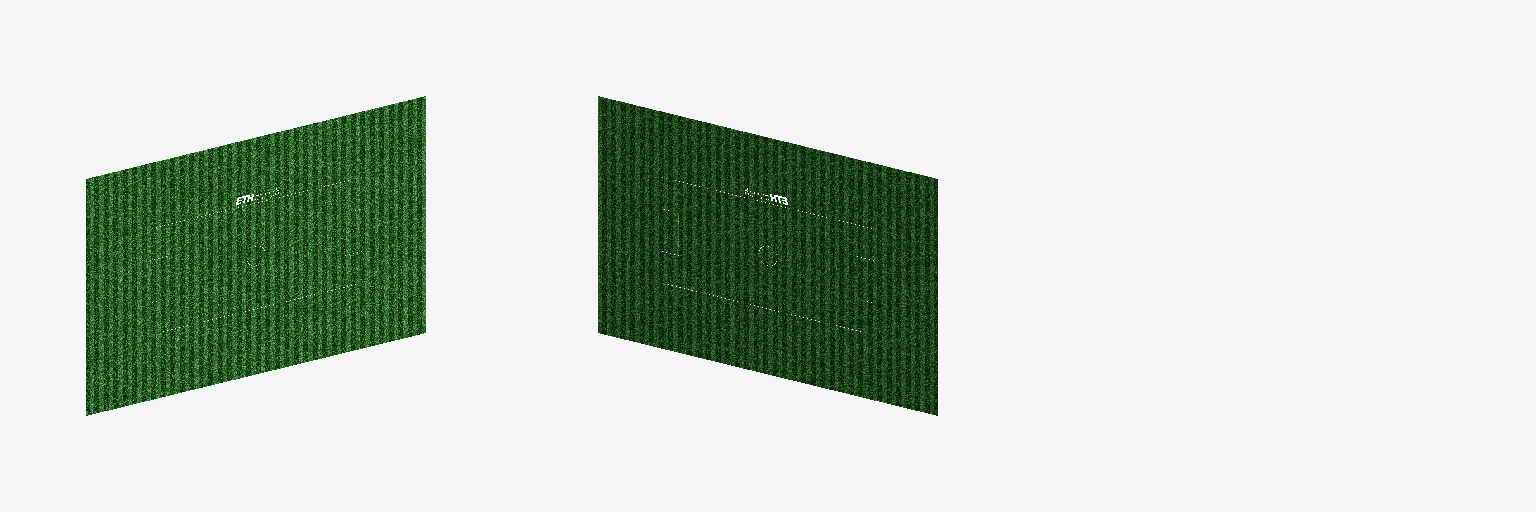
3 views of the same model, side by side, from view 1: azimuth 30°, elevation 25°; view 2: azimuth 150°, elevation 25°; view 3: azimuth 270°, elevation 25° (orthographic).
Parts seen in each view (by area): view 1: Cube; view 2: Cube; view 3: none.
Boxes of the visible parts, x1=… form: Cube: x1=86, y1=96, x2=425, y2=415; Cube: x1=598, y1=96, x2=937, y2=415.
Size of the model in its own units: 84 by 56 by 0.1.
1 materials, 1 textured.